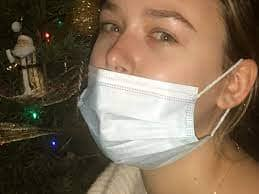with_incorrect_mask: (78, 2, 220, 168)
